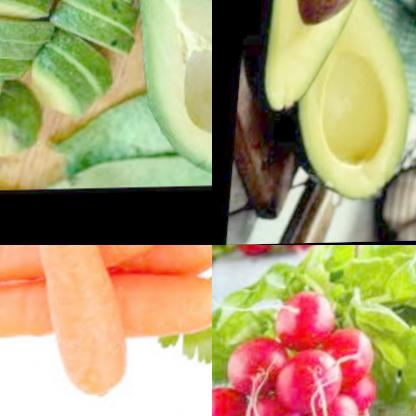avocado: (298, 0, 416, 212), (0, 0, 140, 178), (250, 0, 414, 119), (125, 0, 212, 189)
carrot: (1, 245, 158, 409), (0, 265, 212, 349), (0, 245, 212, 288), (0, 245, 166, 291)
rediska: (279, 343, 347, 414), (226, 334, 298, 400), (263, 287, 337, 348), (323, 327, 382, 384), (232, 245, 416, 260), (340, 368, 382, 416), (247, 390, 320, 416), (310, 391, 371, 416), (212, 386, 257, 416)
